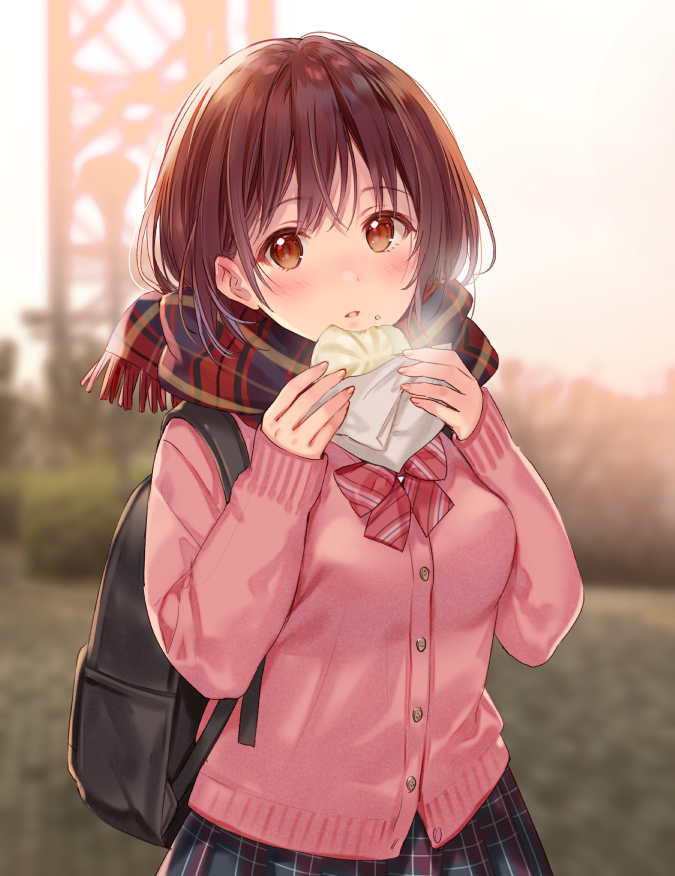纸片人正脸: (139, 28, 481, 354)
